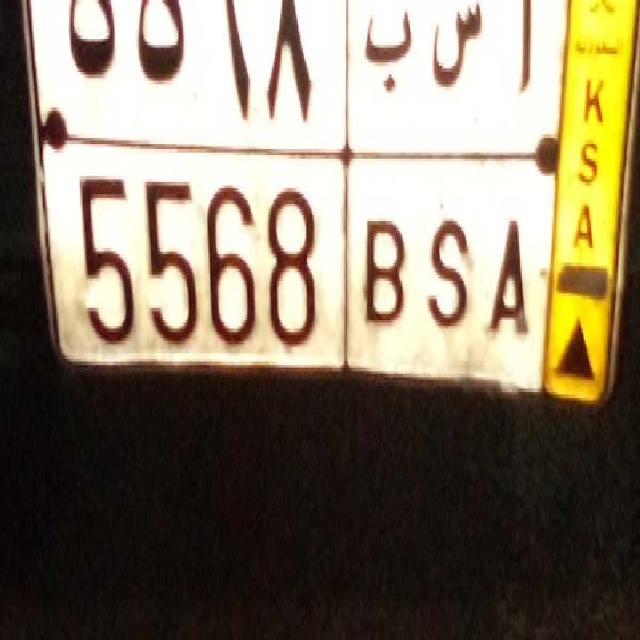license_plate: (62, 155, 535, 417)
